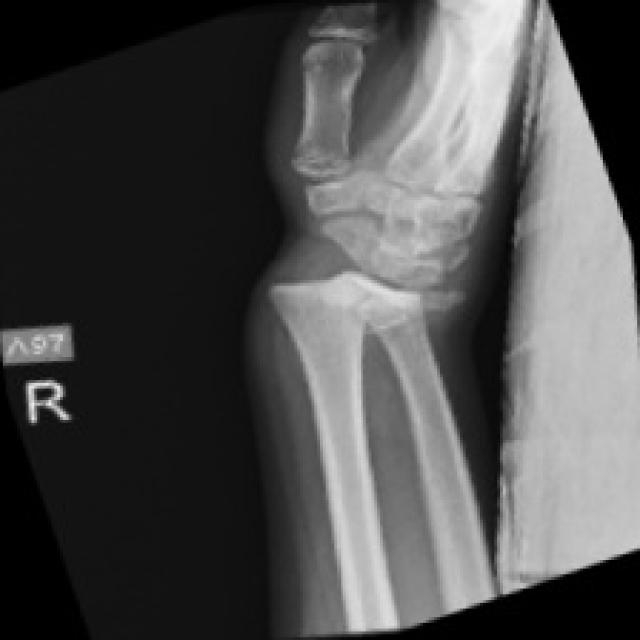fracture: (248, 118, 446, 354)
